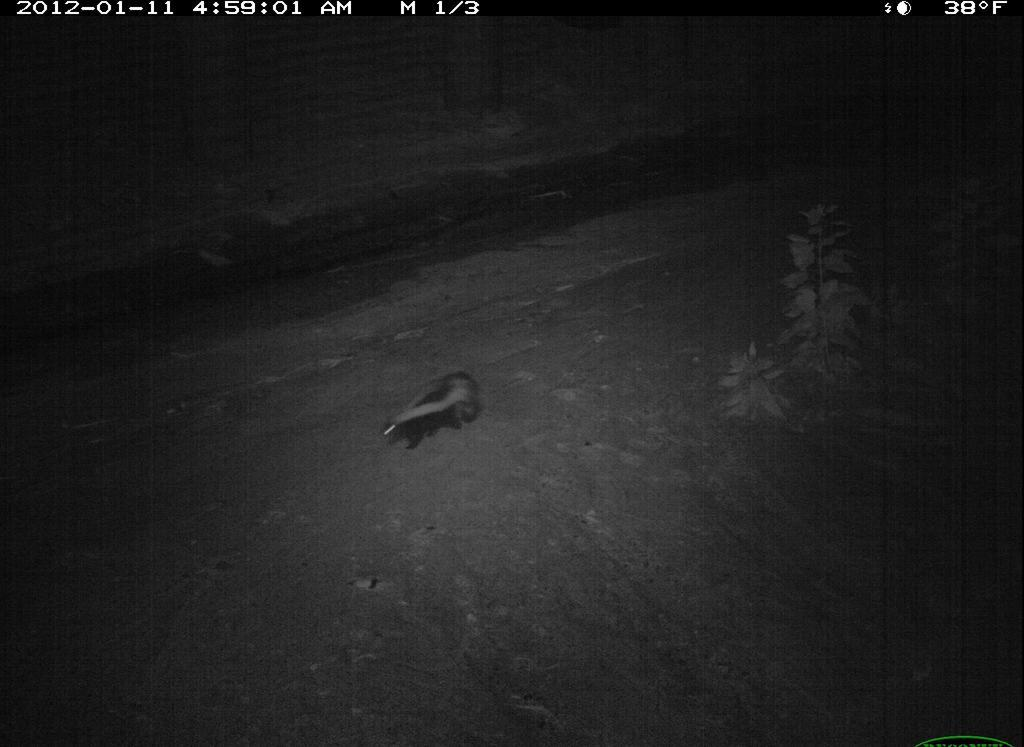skunk: (371, 360, 492, 459)
